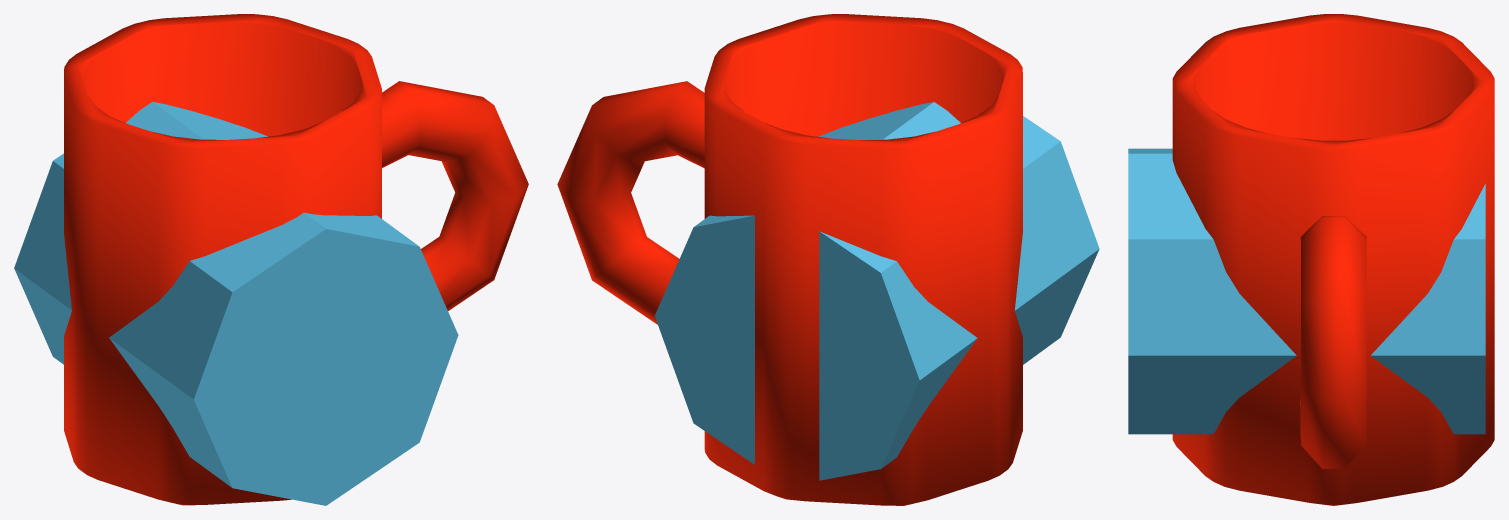
Rendered from sercups_mug_001.fbx.
The picture shows the model from 3 angles, left to right: view 1: azimuth 30°, elevation 25°; view 2: azimuth 150°, elevation 25°; view 3: azimuth 270°, elevation 25°; orthographic projection.
Parts seen in each view (by area): view 1: sercups mug.001, Cilindro; view 2: sercups mug.001, Cilindro; view 3: sercups mug.001, Cilindro.
Boxes of the visible parts, box(x1,y1,x2,y2) form: sercups mug.001: box(64, 14, 528, 505); Cilindro: box(14, 102, 458, 505); sercups mug.001: box(557, 14, 1022, 505); Cilindro: box(655, 102, 1099, 480); sercups mug.001: box(1172, 14, 1494, 505); Cilindro: box(1128, 148, 1485, 434).
Size of the model in its own units: 36.29 by 28.42 by 26.28.
